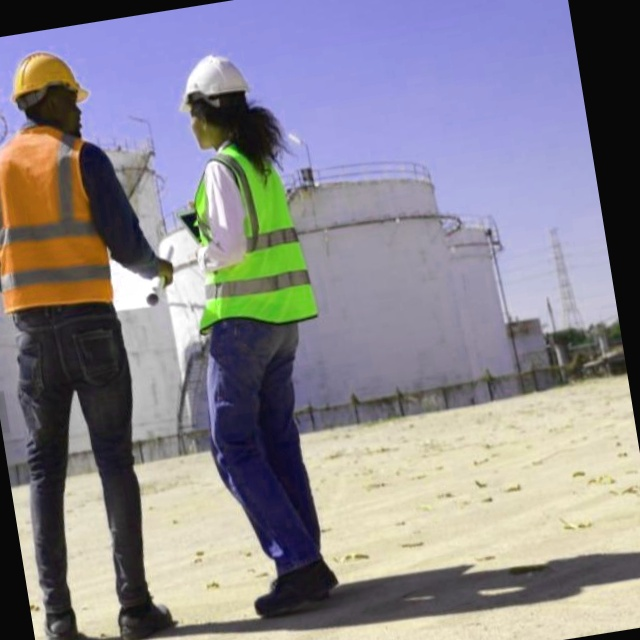Con_Chaleco: (168, 141, 321, 347), (0, 116, 117, 326)
